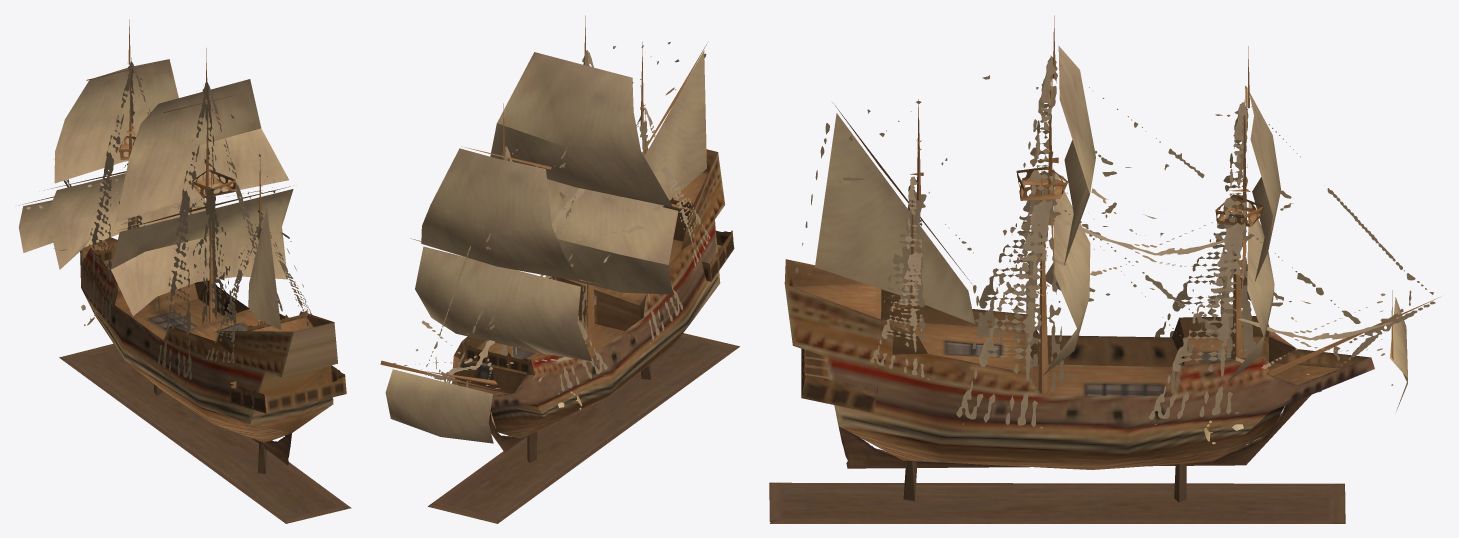
Rendered from ship-model.lod1.glb.
3 renders of one model, left to right at view 1: azimuth 30°, elevation 25°; view 2: azimuth 150°, elevation 25°; view 3: azimuth 270°, elevation 25°, orthographic. The views are drawn at different scales.
Parts seen in each view (by area): view 1: ship-model; view 2: ship-model; view 3: ship-model.
Part boxes in pixels (x1=…): ship-model: x1=18, y1=19, x2=351, y2=523; ship-model: x1=380, y1=15, x2=739, y2=523; ship-model: x1=769, y1=15, x2=1439, y2=523.
Size of the model in its own units: 0.423 by 0.8417 by 1.05.
Materials: 1 (1 with a texture image).
